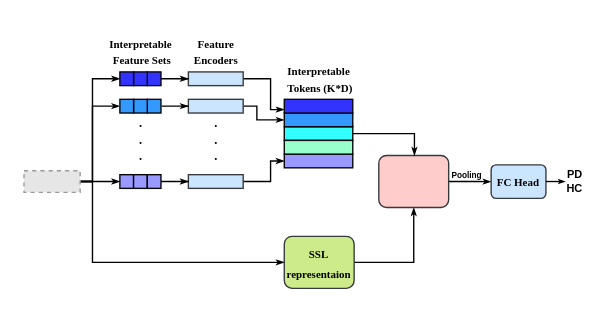
This 610x318 diagram has some shape labels left out. Grey dashed boxes stand in for pictures. The shapes that lost their labels are listed below. From the top down, each one's centre as x and y in pixels, then its label:
At point (413, 181): "Cross Attention".
At point (315, 222): "(T*D)".
